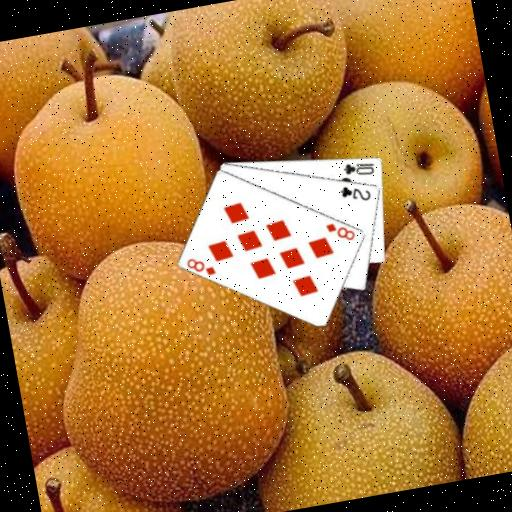10C: (339, 156, 377, 180)
2C: (336, 178, 373, 206)
8D: (183, 251, 218, 281), (322, 216, 358, 245)
